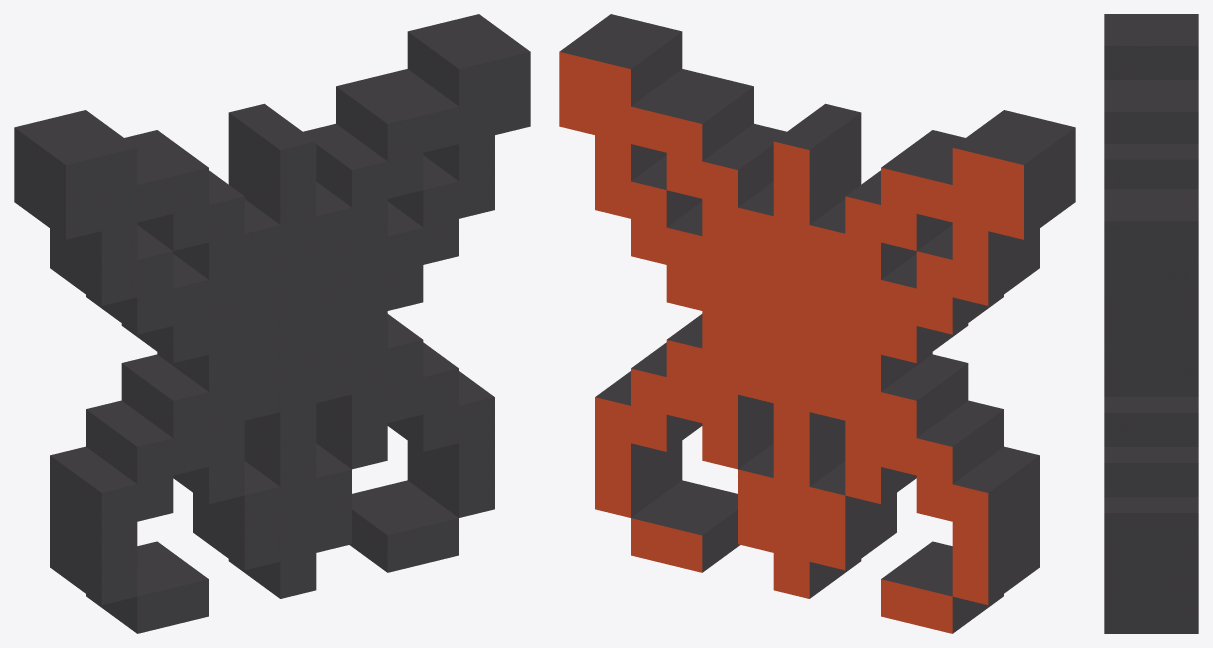
The model's file is Dennis-transformed.glb.
3 renders of one model, left to right at view 1: azimuth 30°, elevation 25°; view 2: azimuth 150°, elevation 25°; view 3: azimuth 270°, elevation 25°, orthographic. The views are drawn at different scales.
Visible parts, largest first — view 1: Dennis; view 2: Dennis; view 3: Dennis.
Boxes of the visible parts, left/top/right/bottom form: Dennis: left=14, top=14, right=530, bottom=633; Dennis: left=559, top=14, right=1075, bottom=633; Dennis: left=1104, top=14, right=1198, bottom=633.
Size of the model in its own units: 3 by 3 by 0.5767.
Materials: 2 (2 with a texture image).
